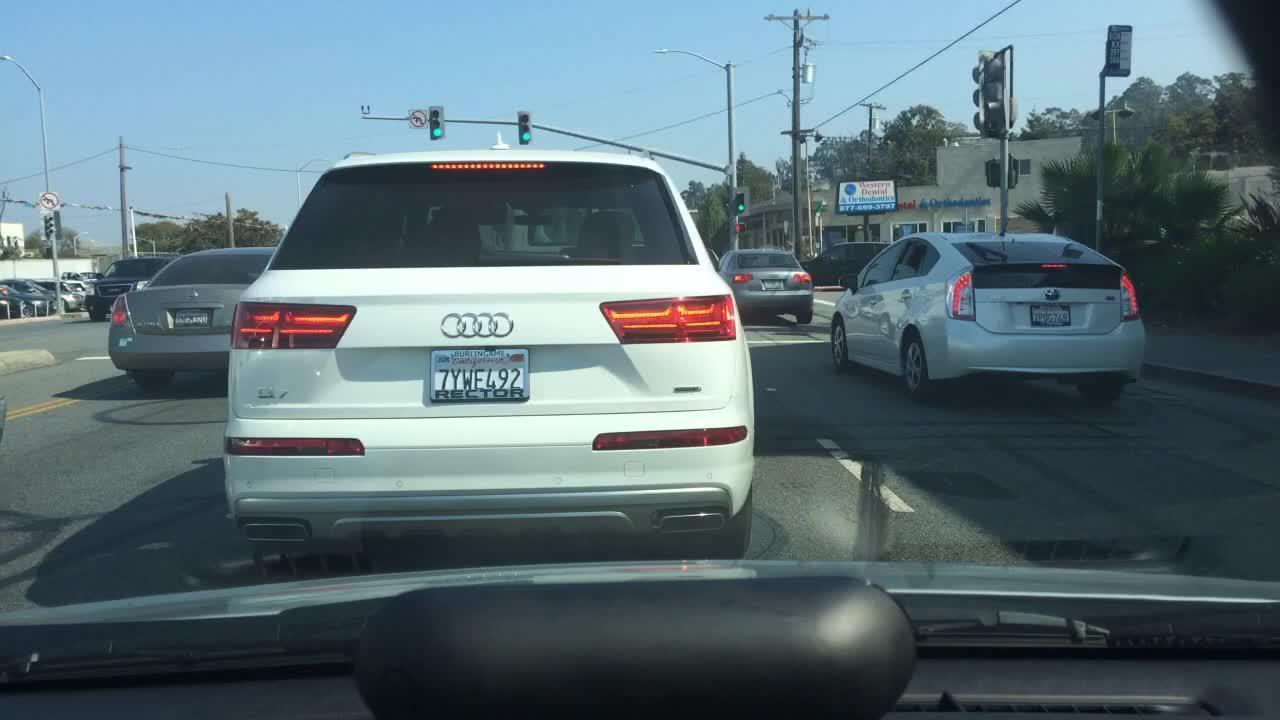Audi: (433, 300, 523, 348)
Toyota: (1041, 286, 1063, 305)
